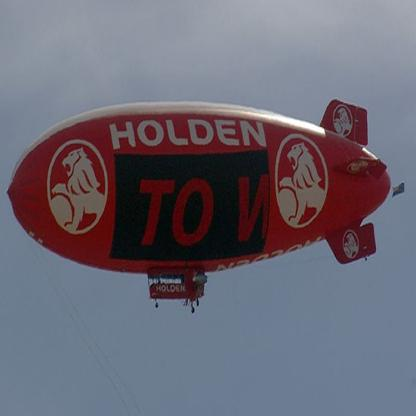Airship: (7, 99, 392, 314)
